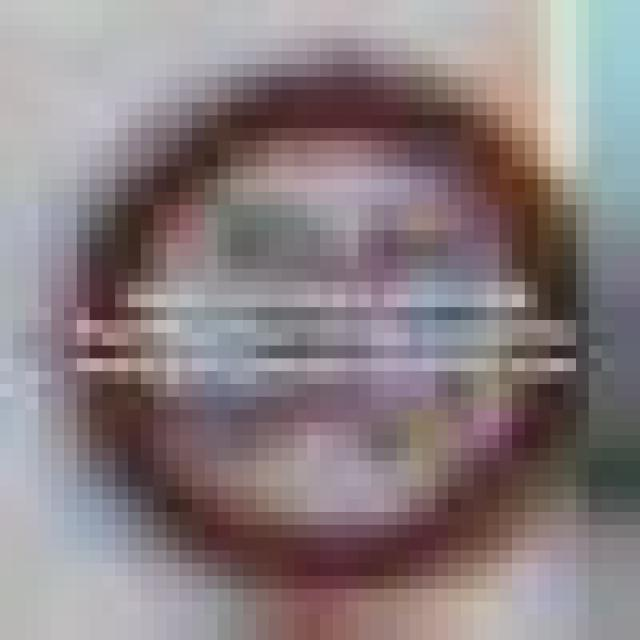SPEED_LIMIT_30: (51, 51, 589, 576)
